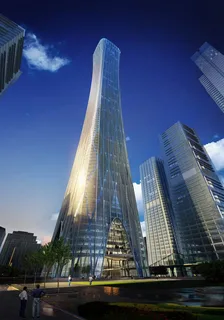high_rise_building: (65, 33, 142, 270)
